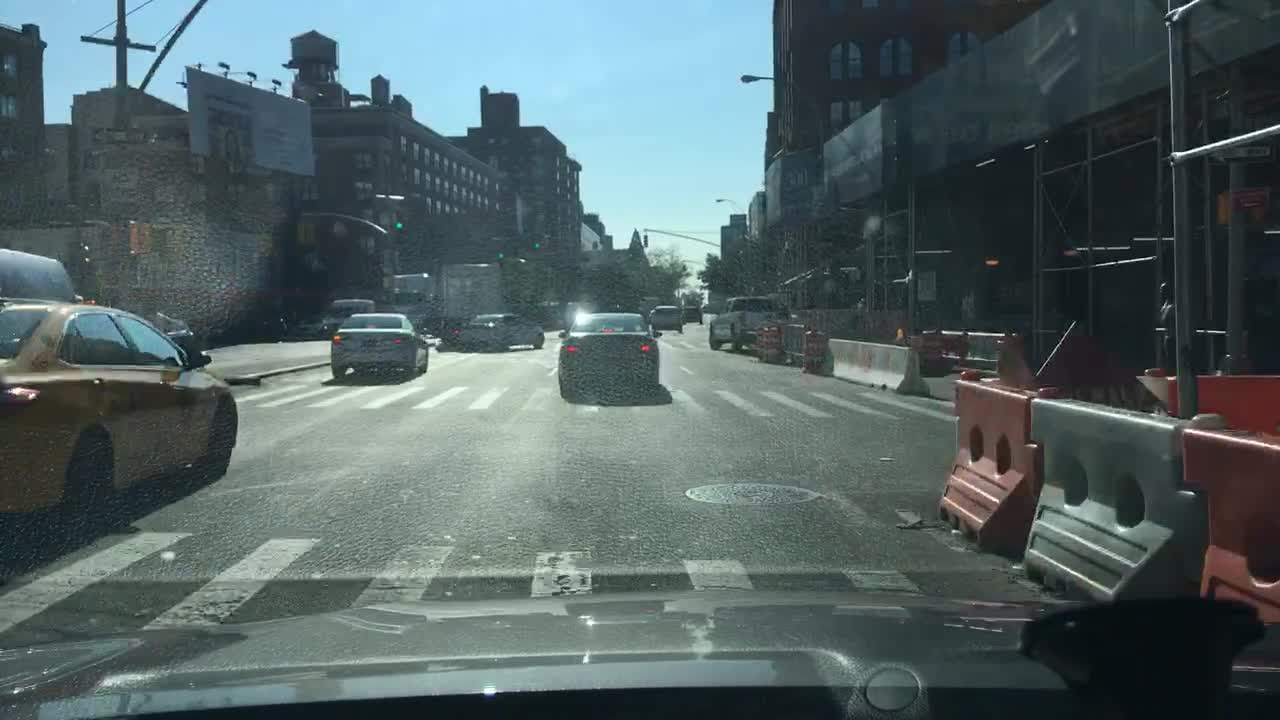car: (0, 294, 239, 559), (554, 308, 664, 405), (328, 310, 430, 383), (117, 307, 214, 374), (0, 245, 85, 313), (707, 291, 795, 352), (457, 308, 548, 354), (289, 307, 347, 342), (647, 302, 685, 335), (435, 316, 470, 348), (613, 298, 648, 318), (680, 303, 705, 325)
traffic light: (1218, 191, 1262, 224), (387, 216, 397, 235), (532, 232, 542, 251), (394, 214, 403, 233), (497, 244, 505, 261), (640, 233, 648, 248)
traffic sign: (1206, 142, 1273, 163), (1231, 189, 1265, 206)
truck: (437, 260, 506, 324), (382, 271, 434, 304)
